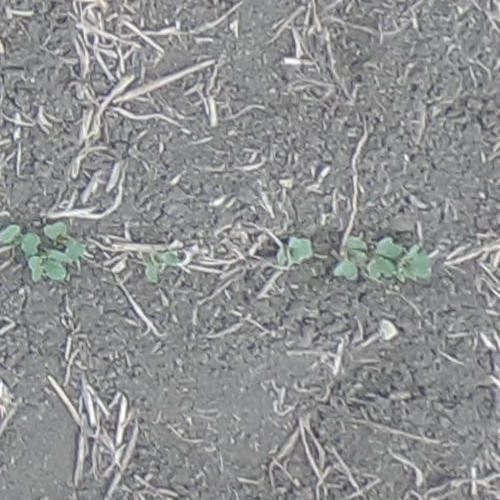plant: (332, 236, 435, 283), (27, 222, 84, 283), (275, 235, 315, 268), (143, 247, 179, 282), (0, 222, 38, 254)
